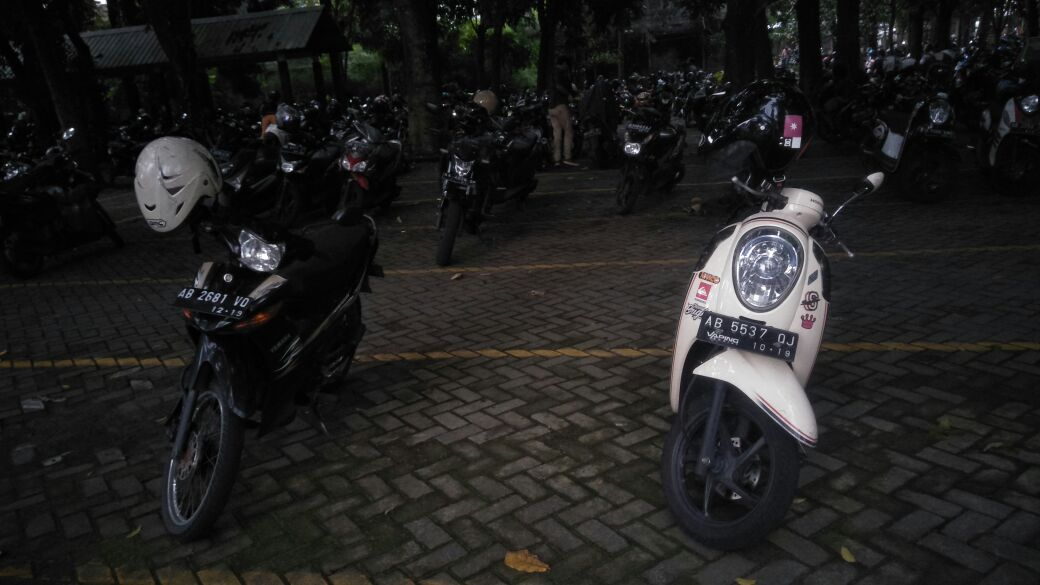plate: (694, 310, 799, 360), (172, 286, 253, 322)
